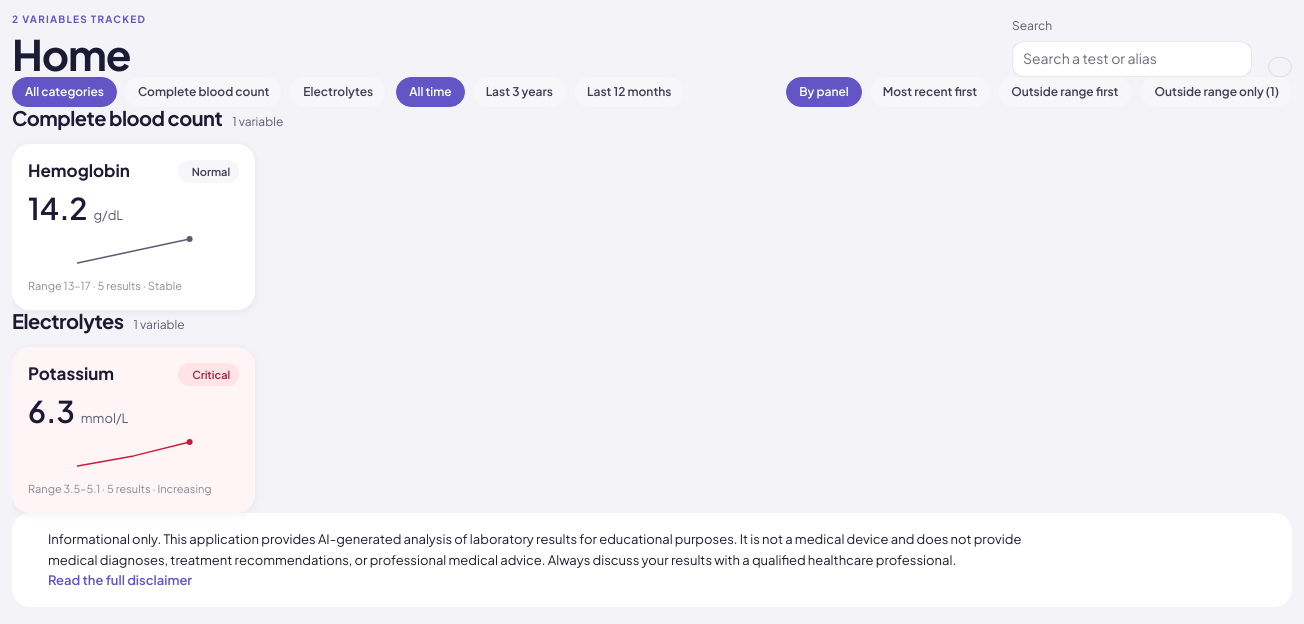
Variables › filters to a category
The width and height of the screenshot is (1304, 624).
Check: the link "Hemoglobin Normal 14.2 g/dL Range 13–17 · 5 results · Stable" is shown, box [12, 144, 255, 310]
Click the button "Electrolytes": coordinates (338, 92) [290, 76, 386, 107]
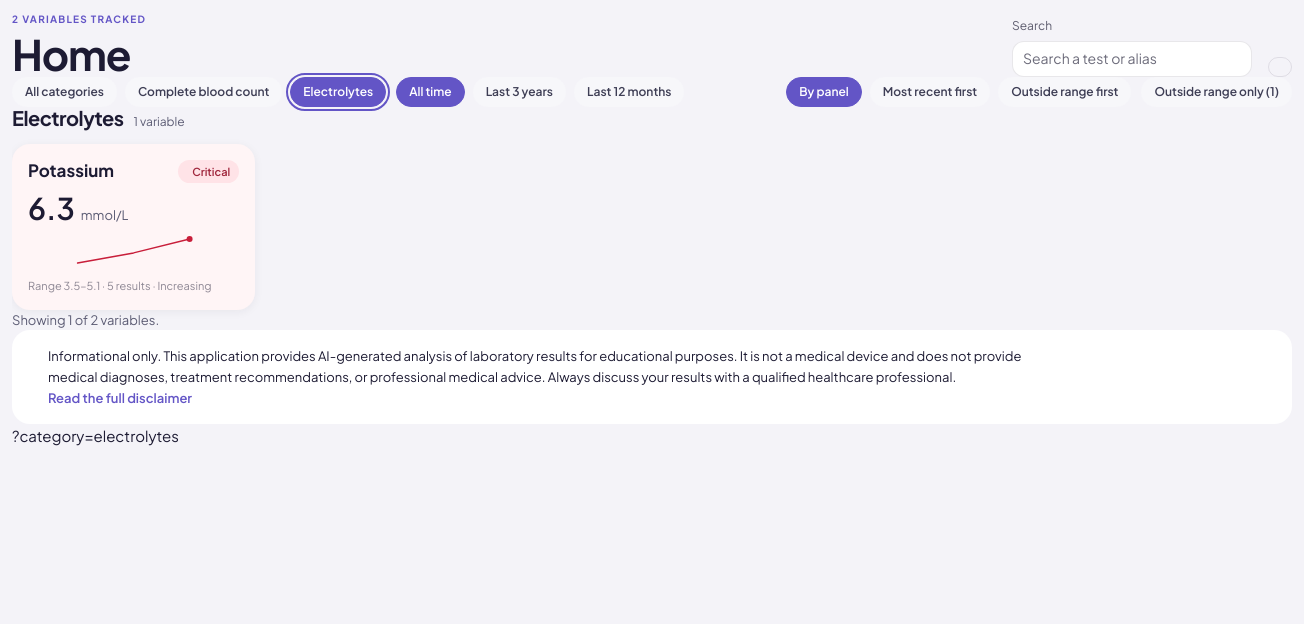
Check: the link "Potassium" is shown, box [12, 144, 255, 310]
Check: the link "Hemoglobin" is gone
